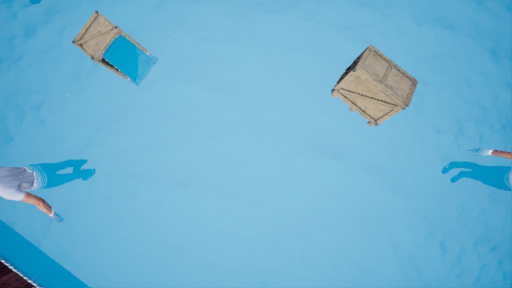person: (2, 155, 96, 224)
